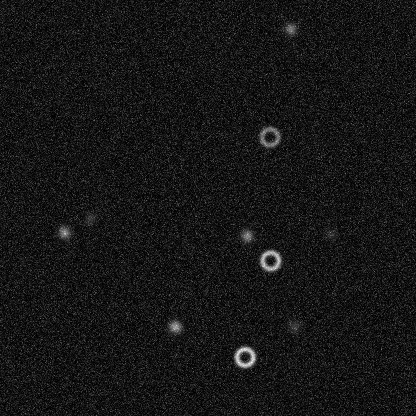Ring: (257, 124, 281, 148), (258, 248, 282, 272), (232, 344, 256, 368)
Spot: (286, 318, 302, 334), (166, 318, 182, 334), (82, 210, 98, 226), (322, 225, 338, 241), (282, 20, 298, 36), (56, 224, 72, 240), (238, 227, 254, 243)
